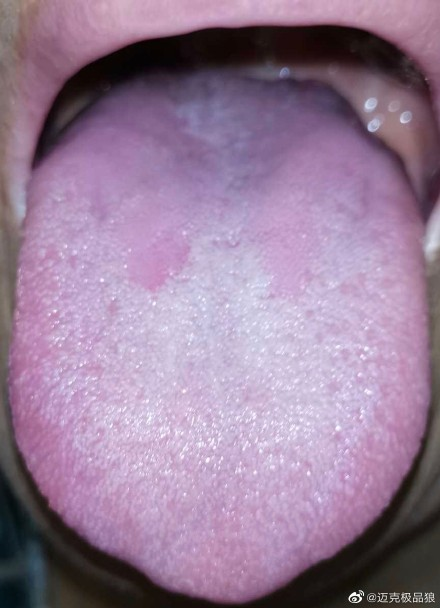baitaishe: (7, 72, 431, 605)
botaishe: (101, 212, 199, 300)
